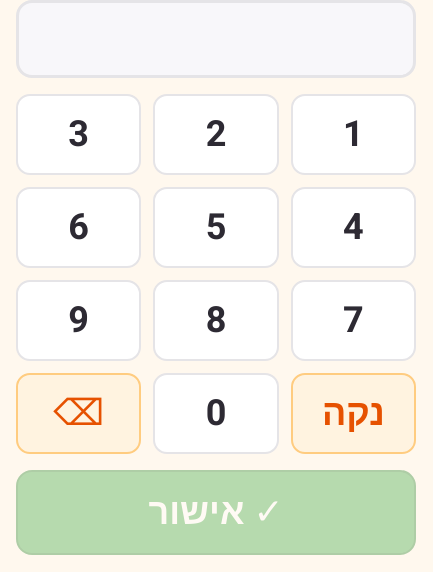
Test: NumberInput › submit button is enabled for valid answers (0-20)
This screenshot has width=433, height=572.
Step 1. Click the button "7" → (353, 320), box [291,280,416,361]
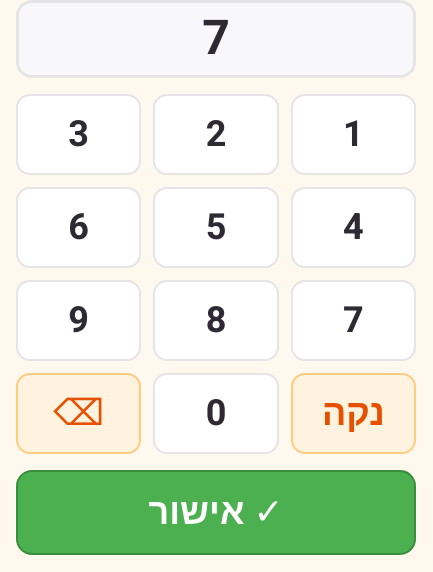
Check: the button with aria-label "שליחת תשובה" is enabled, box [16,470,416,555]
